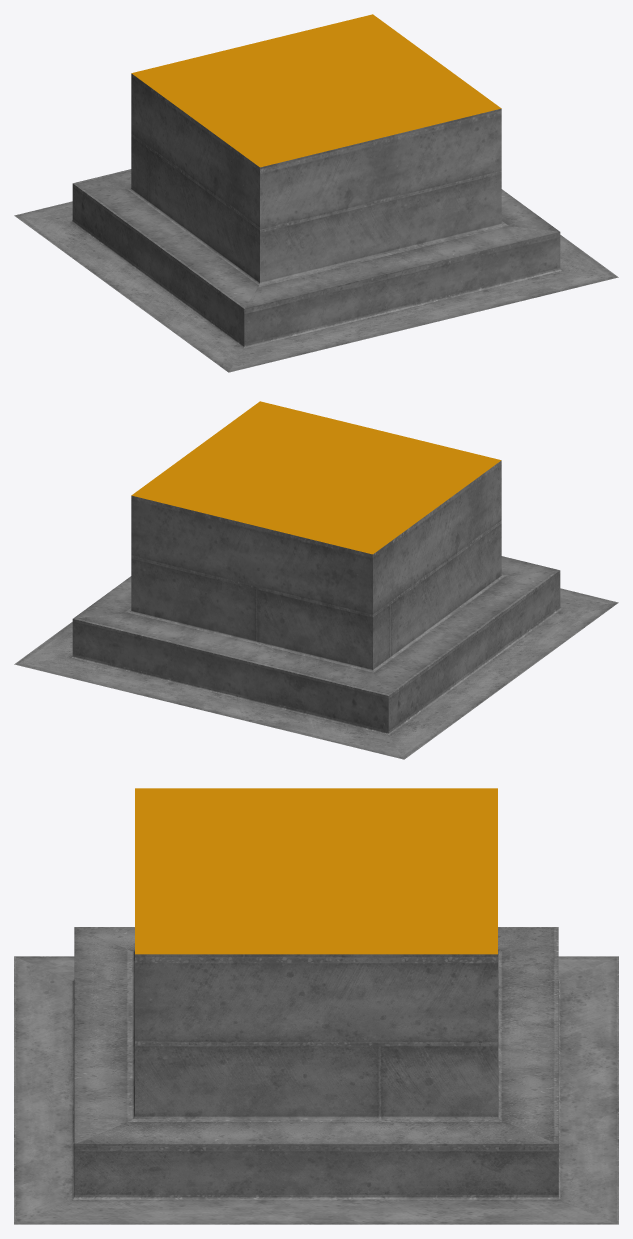
File: SM_Ceiling_09.fbx
3 views of the same model, one above another, from view 1: azimuth 30°, elevation 25°; view 2: azimuth 150°, elevation 25°; view 3: azimuth 270°, elevation 25° (orthographic). The views are drawn at different scales.
Visible parts, largest first — view 1: SM_Ceiling_09; view 2: SM_Ceiling_09; view 3: SM_Ceiling_09.
Part boxes in pixels (left/top/right/bottom): SM_Ceiling_09: left=14, top=14, right=618, bottom=372; SM_Ceiling_09: left=14, top=401, right=618, bottom=759; SM_Ceiling_09: left=14, top=788, right=618, bottom=1224.
Bounding box in the file's own units: 350 × 133 × 333.
